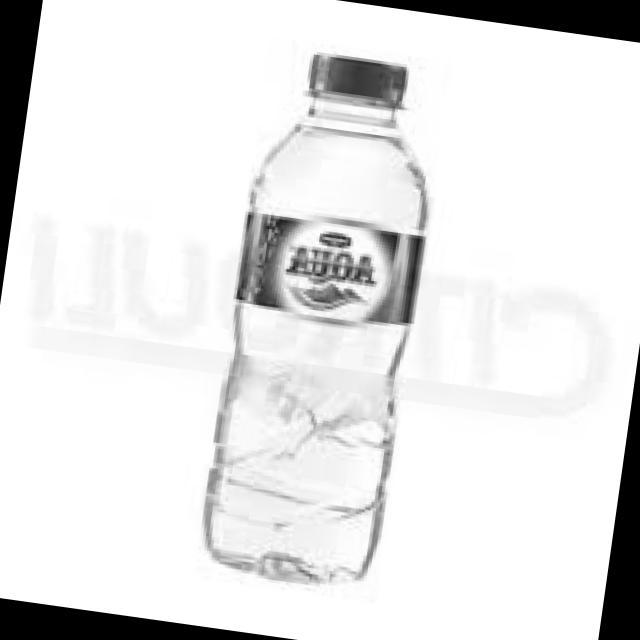good: (152, 19, 464, 604)
